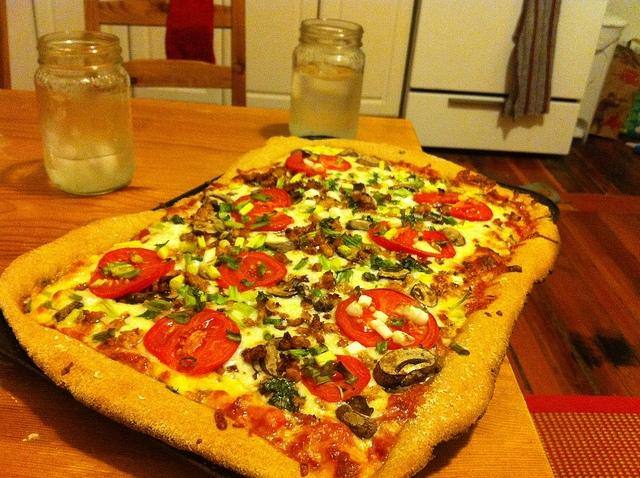mushroom: (372, 347, 442, 388), (335, 404, 378, 439), (292, 281, 334, 312), (260, 337, 288, 378), (266, 275, 302, 298), (190, 218, 226, 237), (411, 283, 438, 308), (344, 395, 374, 416), (54, 302, 84, 322), (236, 166, 273, 182), (350, 192, 378, 212), (183, 272, 210, 292), (242, 344, 267, 364), (263, 241, 299, 254), (440, 228, 466, 246), (124, 291, 158, 304), (377, 267, 411, 279), (346, 218, 374, 232), (319, 238, 335, 259), (436, 314, 456, 330), (354, 155, 380, 167), (393, 184, 419, 194), (414, 204, 432, 215)
tomato: (142, 307, 240, 374), (335, 288, 439, 350), (88, 248, 175, 300), (368, 221, 457, 259), (300, 354, 370, 402), (215, 251, 288, 292), (412, 191, 493, 221), (234, 188, 291, 208), (284, 153, 328, 178), (313, 154, 352, 171)
